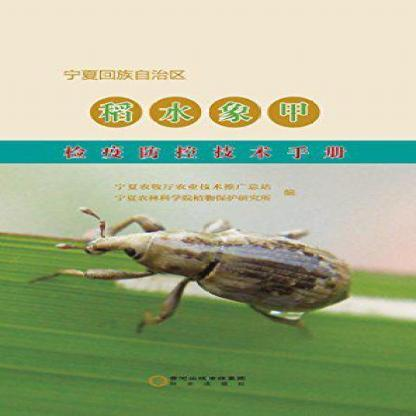rice-bug: (62, 212, 361, 328)
